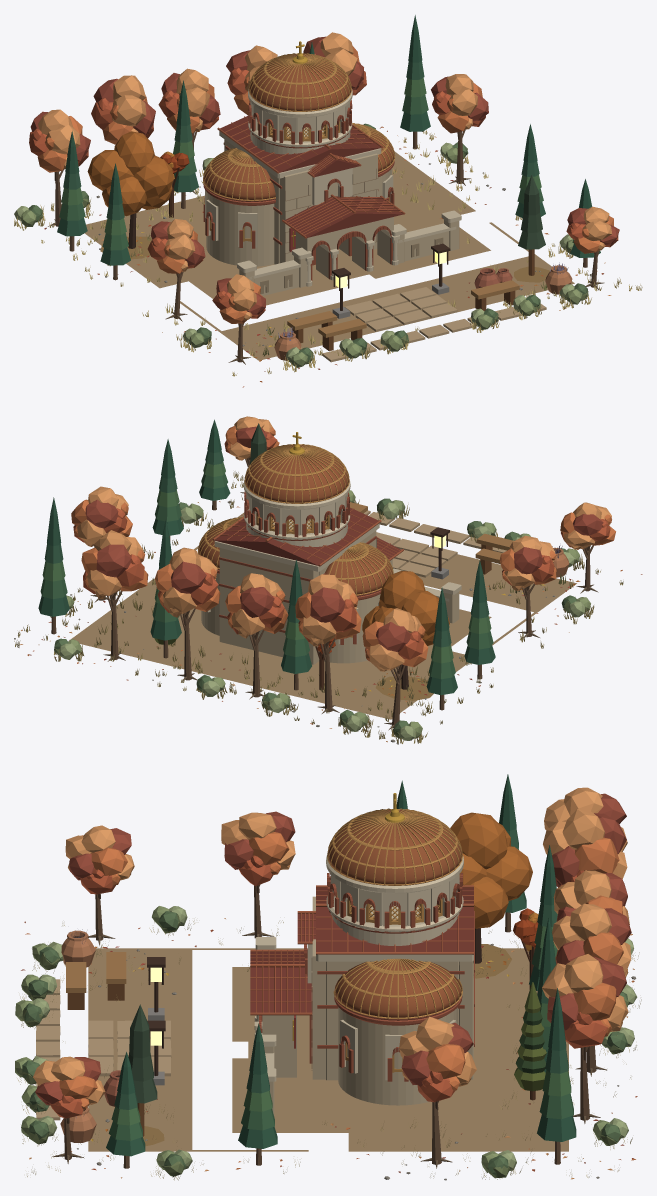
The model's file is constantinople.glb.
The picture shows the model from 3 angles, top to bottom: view 1: azimuth 30°, elevation 25°; view 2: azimuth 150°, elevation 25°; view 3: azimuth 270°, elevation 25°; orthographic projection. The views are drawn at different scales.
Visible parts, largest first — view 1: constantinople; view 2: constantinople; view 3: constantinople.
Part boxes in pixels (<box>): constantinople: <box>14,15,642,387</box>; constantinople: <box>14,416,642,744</box>; constantinople: <box>15,774,641,1180</box>.
Bounding box in the file's own units: 7.8 × 3.54 × 7.85.
